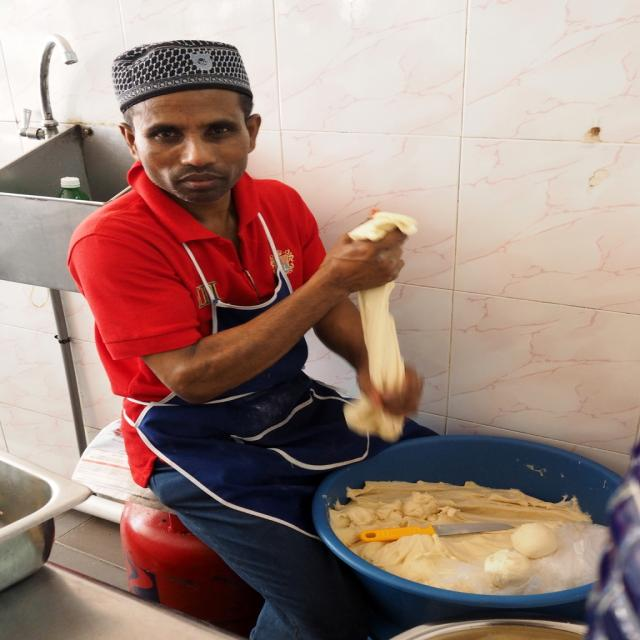no_helmet: (160, 37, 270, 95)
